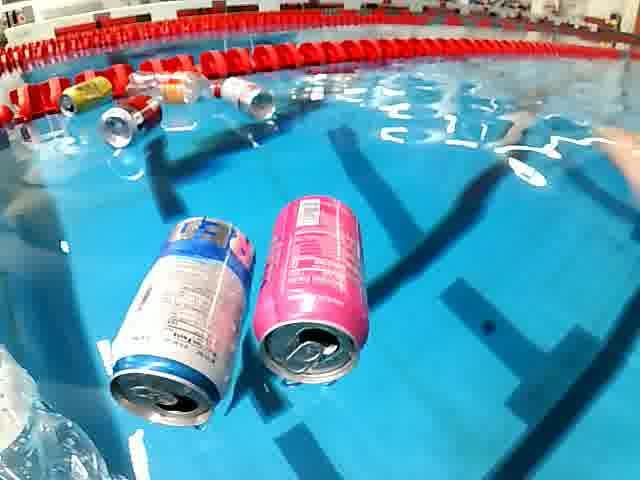Bottle: (122, 69, 228, 103)
Can: (101, 211, 257, 431), (249, 190, 371, 396), (96, 92, 166, 152), (218, 76, 284, 128), (52, 74, 116, 120)
